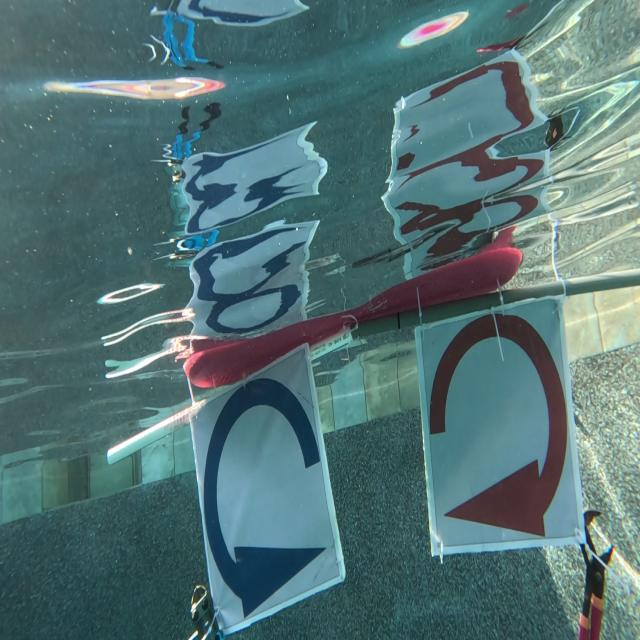blue_side: (202, 362, 328, 612), (403, 368, 404, 384)
